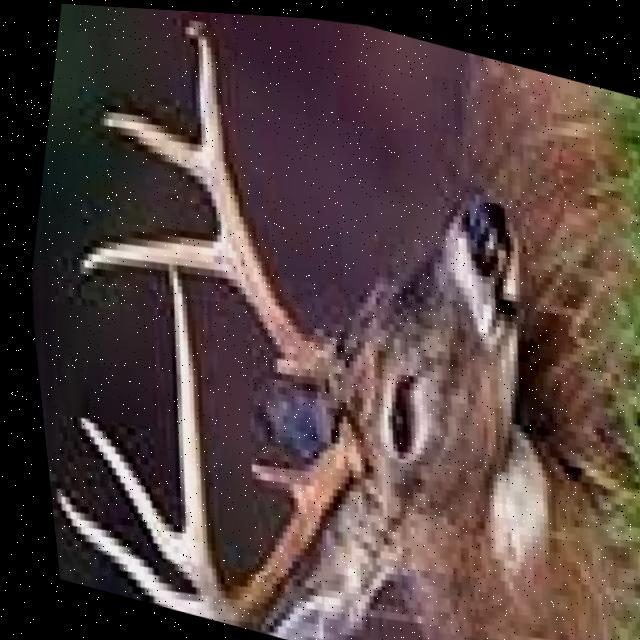L-F: (163, 261, 358, 626)
L-G1: (239, 457, 298, 491)
L-G2: (44, 485, 208, 620)
L-G3: (70, 415, 178, 579)
R-G1: (265, 353, 306, 380)
R-G2: (73, 233, 228, 276)
R-G3: (96, 106, 199, 178)
